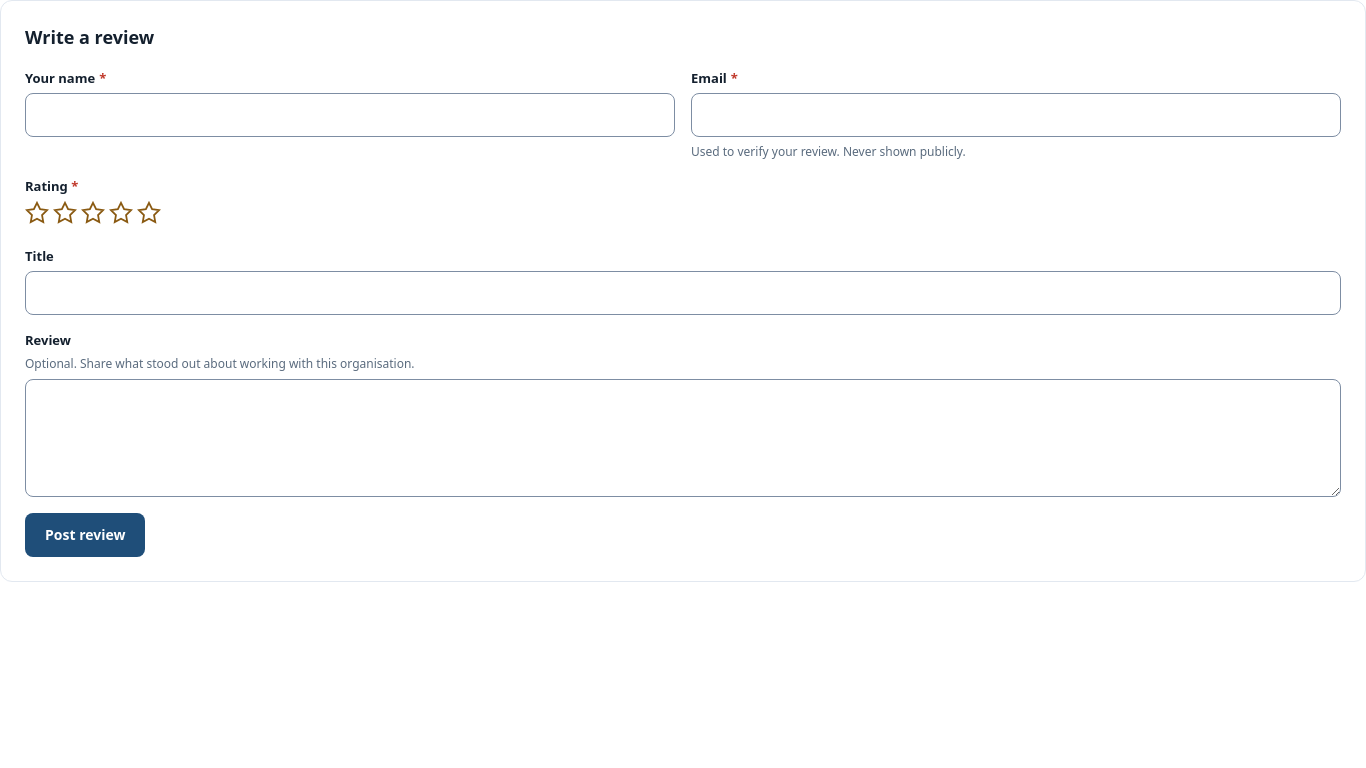
Scenario: ReviewForm › submits a valid review and shows the confirmation
Type "Jo" into the field labelled "Your name*" at (350, 116), box x1=25 y1=94 x2=675 y2=138
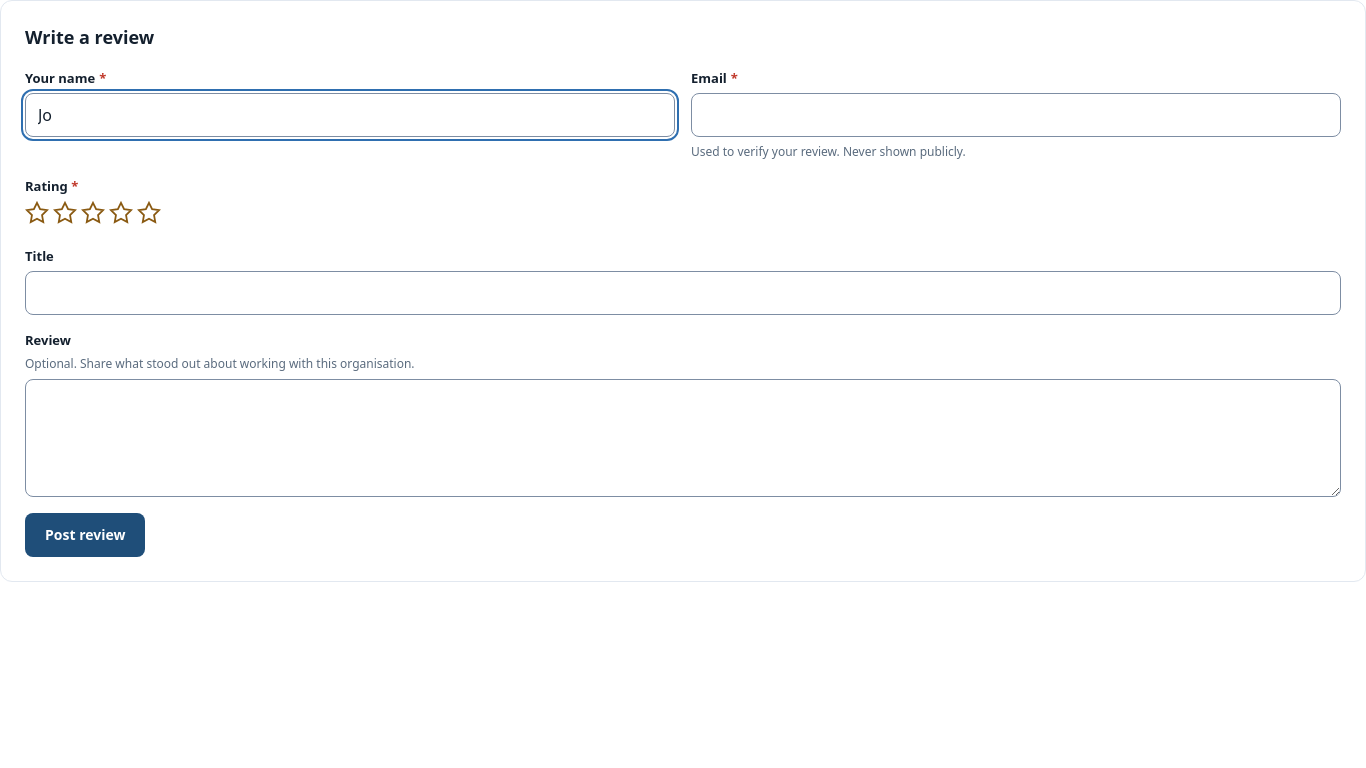
Type "jo@example.com" into the field labelled "Email*" at (1016, 116), box x1=691 y1=94 x2=1341 y2=138
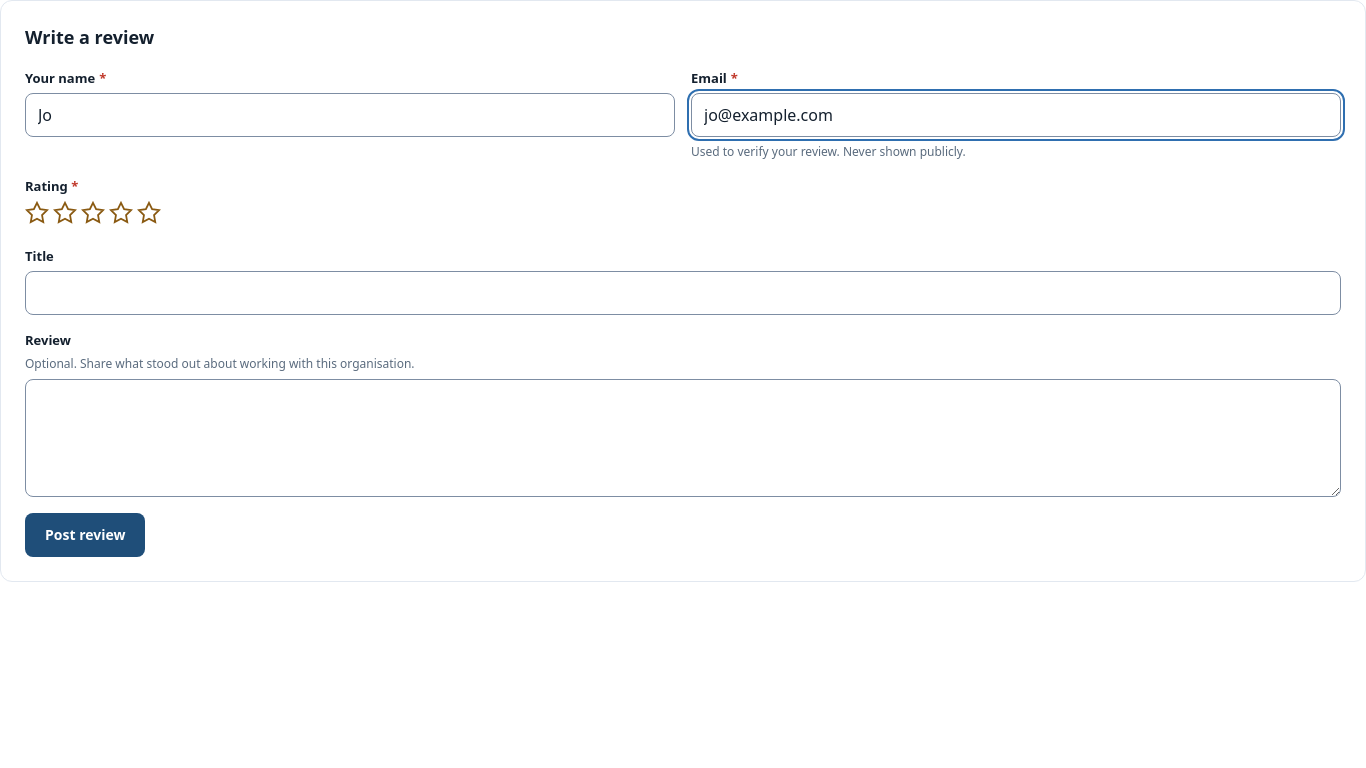
Click the radio button named "5 out of 5" at (149, 213), box x1=137 y1=201 x2=161 y2=225
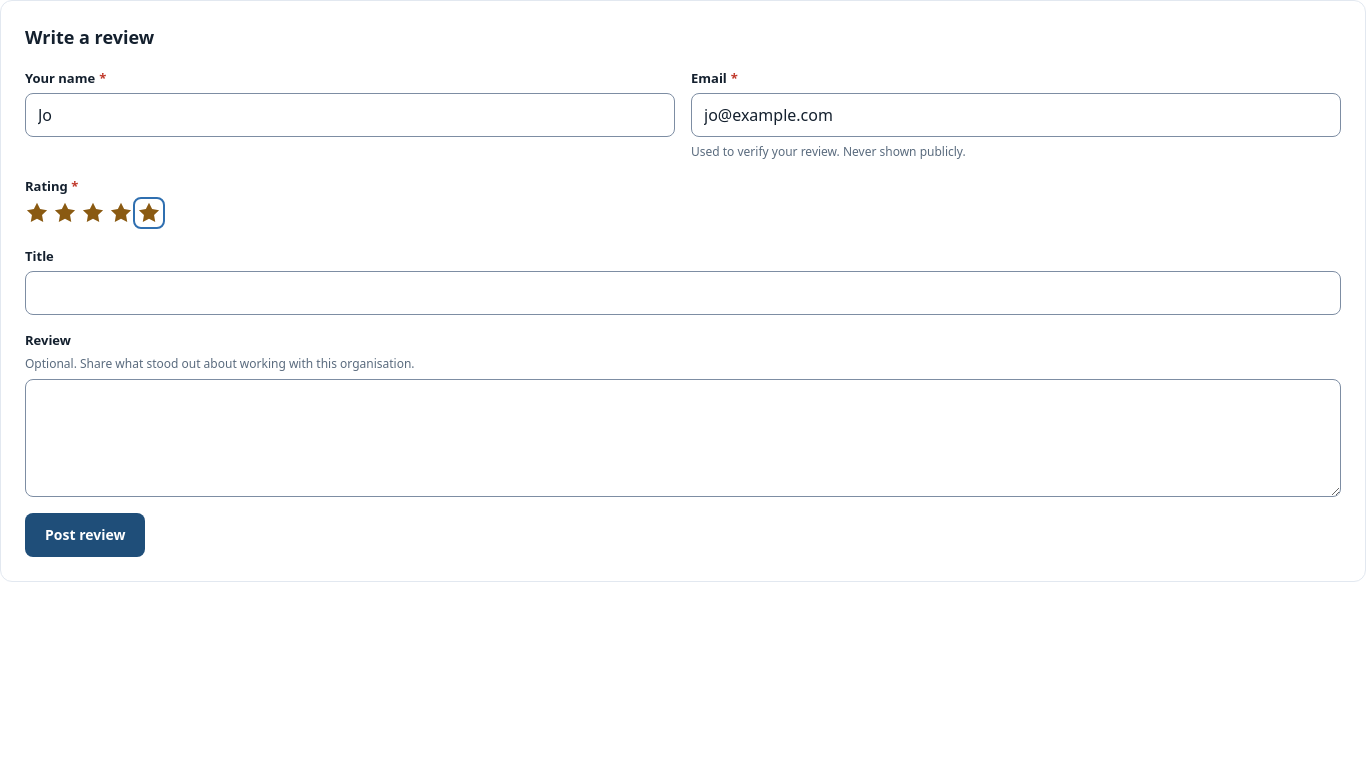
Click the button "Post review" at (85, 535), box x1=25 y1=513 x2=145 y2=557
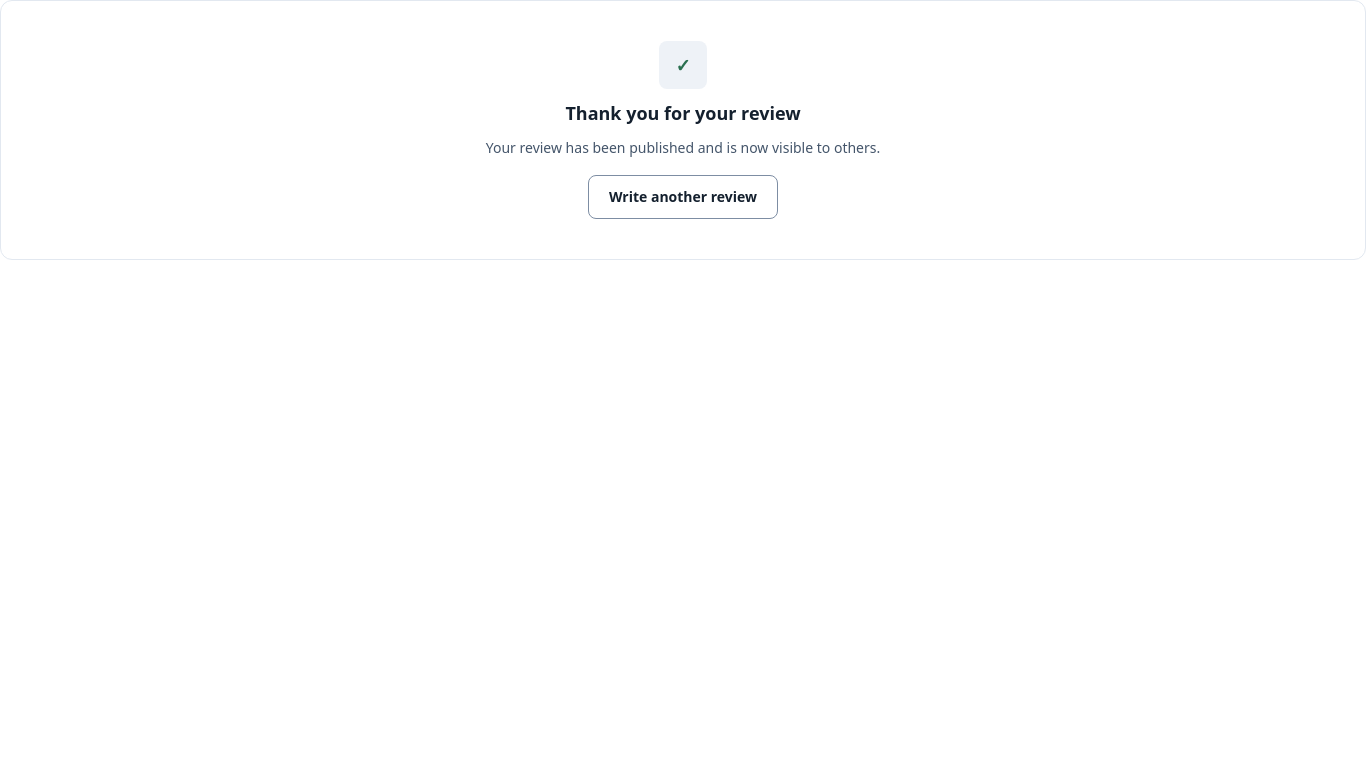
Expected: the heading "Thank you for your review" is shown, x1=565 y1=101 x2=801 y2=125
